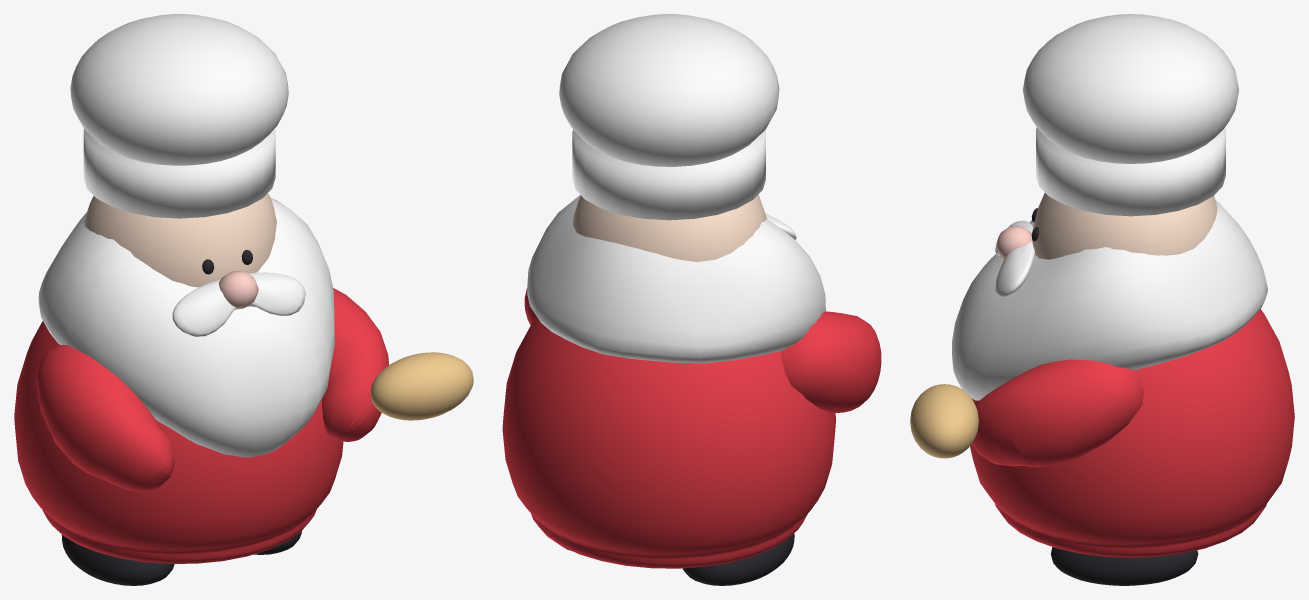
The model's file is baker.glb.
3 renders of one model, left to right at view 1: azimuth 30°, elevation 25°; view 2: azimuth 150°, elevation 25°; view 3: azimuth 270°, elevation 25°, orthographic.
Parts seen in each view (by area): view 1: baker_white, baker_red, baker_skin, baker_bread, baker_black, baker_nose; view 2: baker_white, baker_red, baker_skin, baker_black; view 3: baker_white, baker_red, baker_skin, baker_bread, baker_black, baker_nose.
Part boxes in pixels (box(x1,y1,x2,y2)): baker_white: box(38, 14, 334, 457); baker_red: box(14, 288, 388, 563); baker_skin: box(84, 193, 276, 287); baker_bread: box(370, 352, 473, 420); baker_black: box(62, 250, 301, 585); baker_nose: box(218, 270, 258, 309); baker_white: box(527, 14, 825, 363); baker_red: box(502, 288, 881, 568); baker_skin: box(573, 194, 767, 261); baker_black: box(563, 533, 794, 585); baker_white: box(952, 14, 1267, 400); baker_red: box(970, 309, 1294, 557); baker_skin: box(1031, 193, 1217, 259); baker_bread: box(910, 384, 978, 458); baker_black: box(1031, 208, 1198, 585); baker_nose: box(996, 225, 1031, 259).
Bounding box in the file's own units: 2.37 × 3.29 × 2.23.
